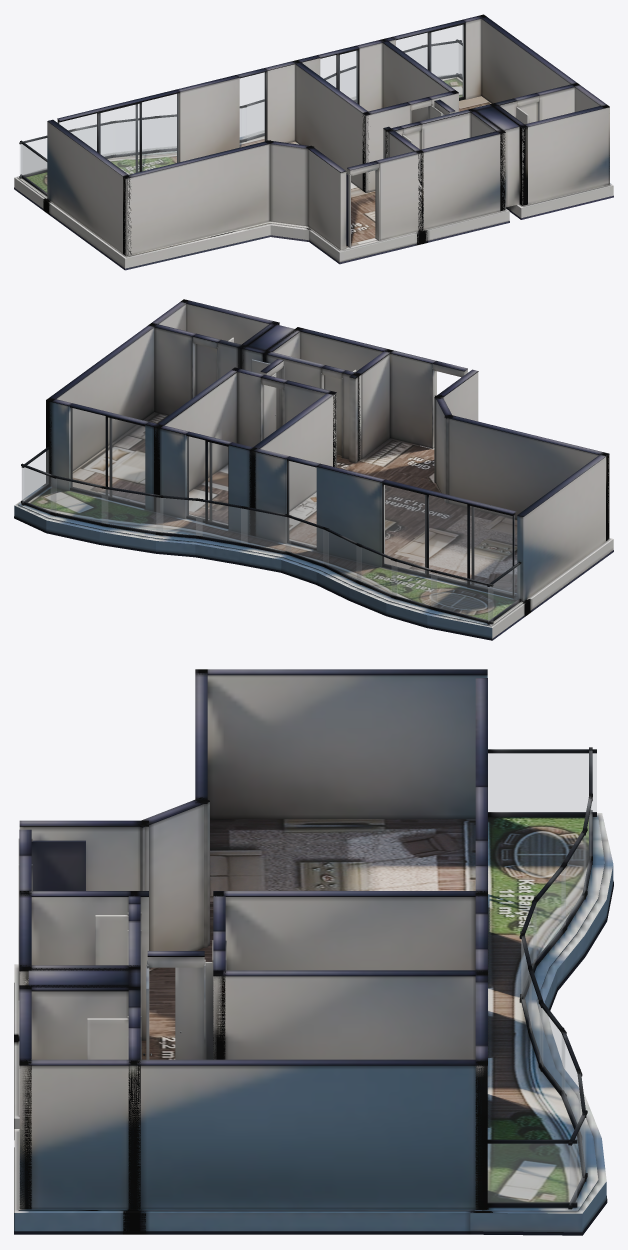
3 renders of one model, top to bottom at view 1: azimuth 30°, elevation 25°; view 2: azimuth 150°, elevation 25°; view 3: azimuth 270°, elevation 25°, orthographic. The views are drawn at different scales.
Visible parts, largest first — view 1: plan, glass0_m, glass3_m, glass1_m, glass2_m, railg10_m, railg2_m, railg1_m, railg12_m, railg11_m, railg7_m, railg9_m (+1 smaller); view 2: plan, glass0_m, glass3_m, glass2_m, railg12_m, railg4_m, glass1_m, railg3_m, railg6_m, railg7_m, railg5_m, railg11_m (+6 smaller); view 3: plan, railg1_m, railg0_m, railg9_m, railg5_m, railg10_m, railg4_m, railg2_m, railg6_m.
Boxes of the visible parts, left/top/right/bottom form: plan: left=14, top=14, right=613, bottom=270; glass0_m: left=59, top=93, right=178, bottom=174; glass3_m: left=396, top=25, right=463, bottom=97; glass1_m: left=240, top=72, right=264, bottom=147; glass2_m: left=320, top=51, right=357, bottom=102; railg10_m: left=115, top=119, right=153, bottom=154; railg2_m: left=426, top=43, right=457, bottom=76; railg1_m: left=21, top=144, right=46, bottom=192; railg12_m: left=20, top=138, right=46, bottom=175; railg11_m: left=76, top=124, right=110, bottom=156; railg7_m: left=241, top=102, right=263, bottom=139; railg9_m: left=160, top=117, right=176, bottom=149; plan: left=14, top=299, right=613, bottom=640; glass0_m: left=384, top=485, right=514, bottom=594; glass3_m: left=71, top=408, right=144, bottom=504; glass2_m: left=187, top=436, right=227, bottom=525; railg12_m: left=431, top=572, right=492, bottom=621; railg4_m: left=102, top=489, right=162, bottom=532; glass1_m: left=289, top=461, right=316, bottom=546; railg3_m: left=51, top=477, right=107, bottom=523; railg6_m: left=196, top=501, right=247, bottom=543; railg7_m: left=241, top=508, right=290, bottom=552; railg5_m: left=156, top=497, right=201, bottom=535; railg11_m: left=392, top=560, right=436, bottom=607; plan: left=14, top=669, right=613, bottom=1235; railg1_m: left=488, top=753, right=596, bottom=812; railg0_m: left=488, top=1144, right=576, bottom=1202; railg9_m: left=534, top=868, right=565, bottom=962; railg5_m: left=540, top=1006, right=564, bottom=1093; railg10_m: left=561, top=835, right=585, bottom=928; railg4_m: left=562, top=1036, right=580, bottom=1125; railg2_m: left=570, top=1118, right=585, bottom=1204; railg6_m: left=529, top=974, right=542, bottom=1066.
Size of the model in its own units: 13.47 by 2.62 by 8.51.
Materials: 2 (1 with a texture image).
